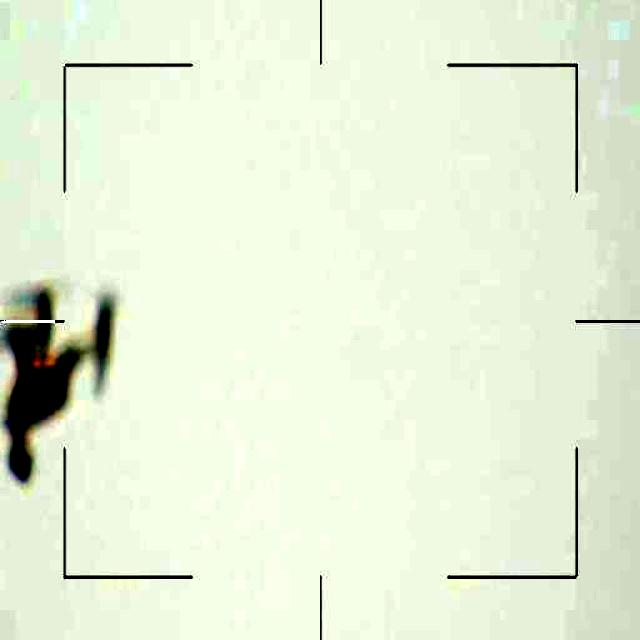bird: (0, 284, 115, 486)
